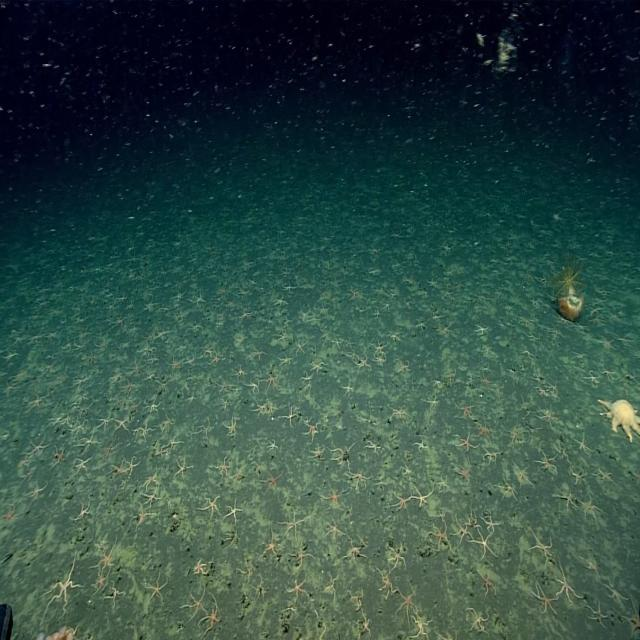brittle-stars: (36, 547, 87, 627), (524, 580, 563, 630), (550, 555, 583, 613), (516, 523, 558, 562), (140, 568, 172, 616), (392, 578, 419, 632), (422, 519, 454, 563), (280, 537, 316, 575), (181, 582, 210, 628), (572, 492, 608, 528), (275, 505, 308, 544), (326, 435, 359, 474), (579, 595, 610, 634), (372, 563, 401, 603), (467, 526, 500, 561), (200, 590, 223, 640), (342, 528, 368, 572), (90, 534, 118, 574), (316, 480, 349, 513), (259, 526, 286, 566), (462, 603, 491, 640), (258, 464, 287, 500), (383, 535, 408, 576), (122, 504, 161, 530), (601, 572, 629, 608), (621, 587, 640, 640), (530, 450, 562, 481), (470, 566, 497, 602), (548, 486, 584, 513), (506, 456, 536, 488), (449, 425, 478, 458), (587, 461, 617, 492), (405, 607, 433, 640), (451, 455, 475, 492), (170, 450, 196, 484), (490, 476, 524, 502), (103, 578, 127, 614), (195, 492, 225, 520), (186, 550, 212, 582), (321, 514, 347, 545), (87, 564, 112, 596), (472, 414, 497, 446), (72, 451, 96, 484), (282, 574, 310, 602), (68, 497, 94, 527), (210, 453, 233, 486), (450, 398, 478, 425), (567, 455, 588, 491), (106, 455, 128, 489), (304, 617, 336, 640), (138, 485, 164, 513), (74, 428, 100, 456), (476, 508, 504, 534), (222, 496, 246, 526), (342, 584, 366, 614), (532, 405, 562, 429), (409, 425, 432, 456), (24, 431, 51, 457), (410, 480, 434, 509), (475, 368, 504, 392), (592, 331, 616, 360), (341, 468, 374, 489), (542, 320, 565, 350), (155, 406, 177, 437), (434, 317, 460, 343), (274, 402, 299, 429), (534, 377, 561, 402), (26, 480, 50, 508), (129, 422, 157, 446), (360, 435, 384, 463), (549, 437, 573, 465), (448, 518, 471, 547), (502, 421, 525, 450), (384, 401, 414, 423), (231, 558, 256, 584), (320, 568, 339, 602), (210, 372, 238, 395), (359, 402, 381, 431), (513, 340, 542, 362), (480, 444, 504, 470), (259, 366, 282, 393), (522, 420, 545, 447), (390, 490, 414, 515), (132, 339, 156, 364), (193, 415, 216, 441), (220, 526, 242, 553), (354, 607, 372, 640), (392, 353, 414, 380), (303, 442, 327, 466), (418, 392, 442, 416), (108, 306, 132, 330), (235, 301, 258, 326), (122, 450, 143, 477), (139, 469, 161, 494), (180, 347, 202, 372), (619, 363, 640, 389), (125, 393, 145, 420), (220, 410, 240, 436), (229, 459, 248, 486), (50, 444, 67, 474), (110, 413, 132, 436), (162, 430, 184, 453), (90, 411, 114, 432), (123, 356, 148, 376), (438, 279, 458, 304), (582, 548, 598, 579), (144, 395, 163, 421), (338, 374, 357, 400), (371, 331, 390, 357), (572, 430, 591, 456), (42, 408, 64, 430), (28, 390, 49, 413), (469, 319, 492, 340), (478, 338, 499, 361), (97, 440, 121, 460), (270, 326, 294, 346), (244, 374, 262, 400), (117, 375, 138, 397), (152, 374, 174, 395), (582, 366, 603, 388), (461, 509, 484, 529), (291, 336, 310, 360), (140, 292, 159, 316), (191, 283, 207, 311), (442, 365, 459, 391), (250, 578, 270, 600), (0, 504, 19, 527), (151, 322, 170, 345), (250, 395, 268, 419), (397, 294, 415, 318), (298, 422, 319, 442), (431, 625, 459, 640), (81, 348, 100, 370), (296, 301, 312, 327), (354, 351, 372, 374), (172, 284, 190, 307), (599, 364, 619, 384), (227, 360, 248, 379), (369, 352, 391, 370), (2, 378, 21, 398), (272, 288, 291, 308), (371, 473, 390, 493), (280, 597, 297, 619), (380, 294, 397, 316), (296, 367, 315, 386), (150, 441, 168, 461), (40, 358, 58, 378), (246, 343, 266, 361), (413, 313, 428, 337), (432, 506, 449, 527), (188, 315, 204, 337), (276, 258, 292, 280), (198, 341, 216, 360), (164, 354, 183, 372), (387, 326, 405, 345), (110, 394, 127, 414), (169, 308, 190, 324), (330, 329, 345, 351), (318, 324, 333, 346), (230, 330, 248, 348), (283, 275, 301, 293), (368, 279, 386, 297), (184, 270, 202, 288), (156, 296, 173, 315), (308, 358, 328, 374), (144, 353, 164, 369), (139, 369, 157, 386), (76, 401, 94, 418), (18, 467, 34, 486), (72, 417, 88, 436), (330, 419, 346, 438), (60, 406, 72, 431), (399, 458, 414, 478), (266, 433, 280, 454), (70, 374, 88, 390), (276, 353, 295, 368), (109, 367, 124, 386), (435, 471, 449, 491), (318, 297, 332, 317), (346, 342, 360, 362), (273, 299, 285, 322), (319, 406, 332, 427), (17, 453, 32, 471), (265, 397, 280, 415), (371, 303, 384, 323), (174, 338, 190, 354), (349, 283, 362, 302), (208, 352, 223, 368), (338, 336, 356, 349), (120, 336, 131, 356), (356, 530, 368, 548), (253, 458, 264, 477), (282, 312, 295, 328), (75, 389, 89, 403), (220, 394, 232, 410), (301, 412, 313, 428), (432, 375, 444, 389)
